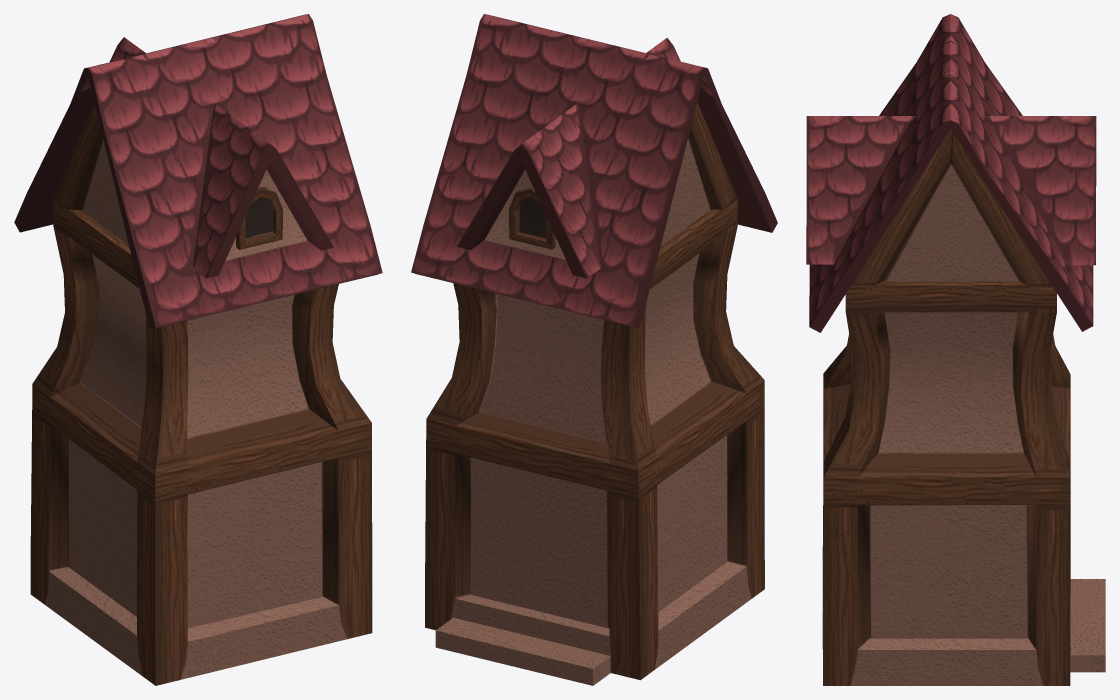
File: WaterMillHouse.obj
3 renders of one model, left to right at view 1: azimuth 30°, elevation 25°; view 2: azimuth 150°, elevation 25°; view 3: azimuth 270°, elevation 25°, orthographic.
Visible parts, largest first — view 1: WaterMillHouseMesh2; view 2: WaterMillHouseMesh2; view 3: WaterMillHouseMesh2.
Boxes of the visible parts, x1,y1,x2,y2 form: WaterMillHouseMesh2: [14, 14, 382, 685]; WaterMillHouseMesh2: [411, 14, 777, 685]; WaterMillHouseMesh2: [806, 14, 1105, 685].
Bounding box in the file's own units: 20.64 × 49.72 × 23.82.
